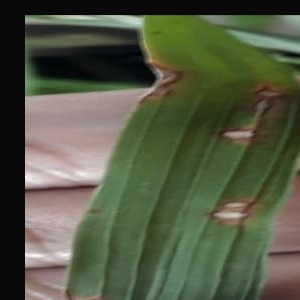Brown_Spot: (131, 50, 189, 111), (210, 114, 263, 157), (251, 77, 298, 104), (245, 98, 287, 128), (211, 207, 256, 229), (218, 189, 260, 211)
